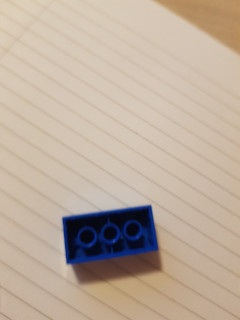2x4 blue: (60, 204, 162, 265)
